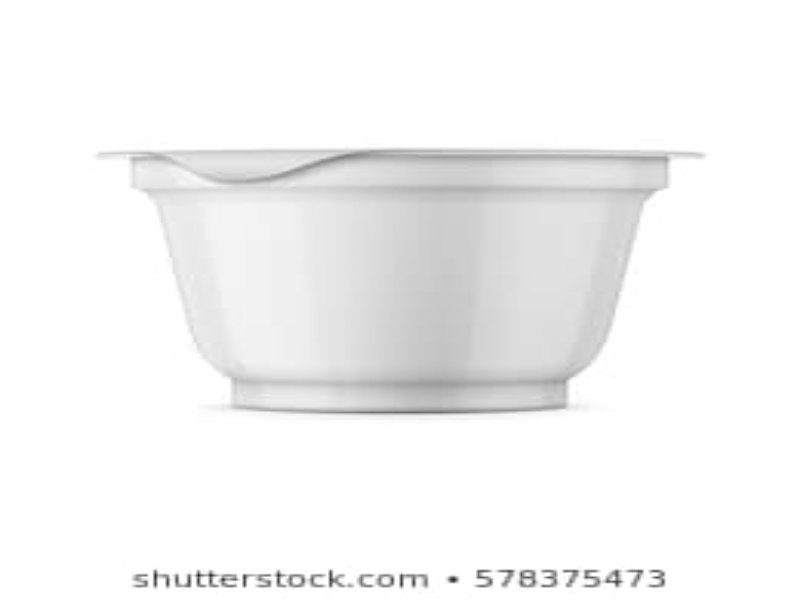yogurt-cup: (88, 141, 716, 422)
